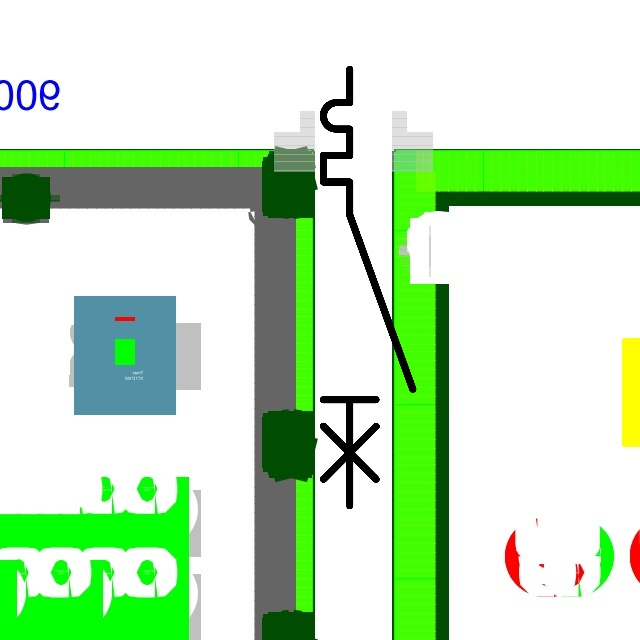interruptor_termomagnetico: (312, 58, 424, 517)
